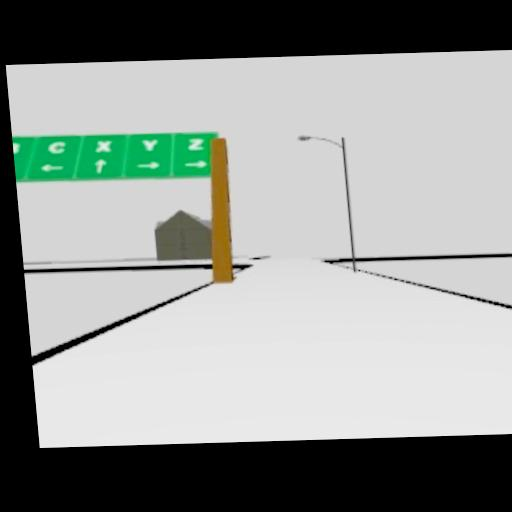B: (12, 140, 18, 153)
C: (45, 139, 67, 153)
Left: (39, 162, 63, 172)
Right: (135, 159, 161, 169), (183, 159, 207, 168)
Straight: (92, 157, 108, 172)
X: (93, 138, 113, 151)
Y: (140, 137, 159, 149)
Z: (187, 136, 206, 149)
